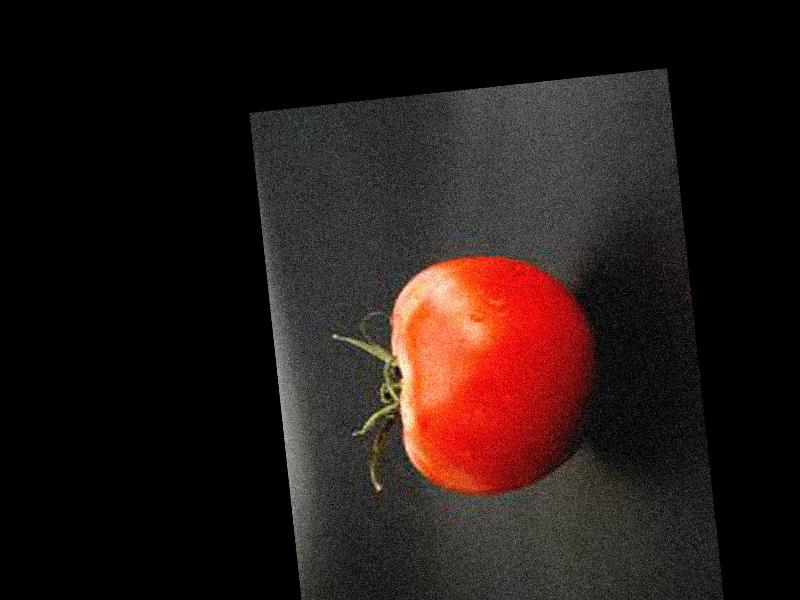Tomato: (383, 242, 607, 501)
